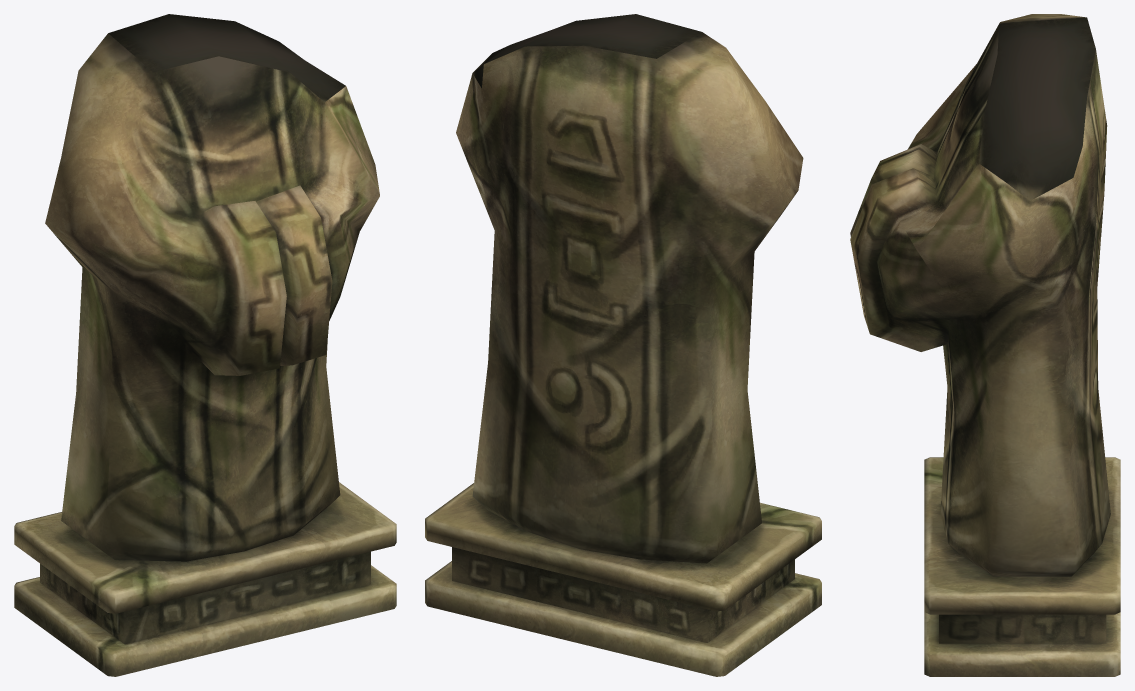
The model's file is statue broken.FBX.
3 views of the same model, side by side, from view 1: azimuth 30°, elevation 25°; view 2: azimuth 150°, elevation 25°; view 3: azimuth 270°, elevation 25° (orthographic). The views are drawn at different scales.
Visible parts, largest first — view 1: statue broken; view 2: statue broken; view 3: statue broken.
Part boxes in pixels (x1,y1,x2,y2): statue broken: (14,14,396,676); statue broken: (425,14,821,676); statue broken: (850,14,1120,676).
Bounding box in the file's own units: 2.36 × 4.05 × 1.78.
